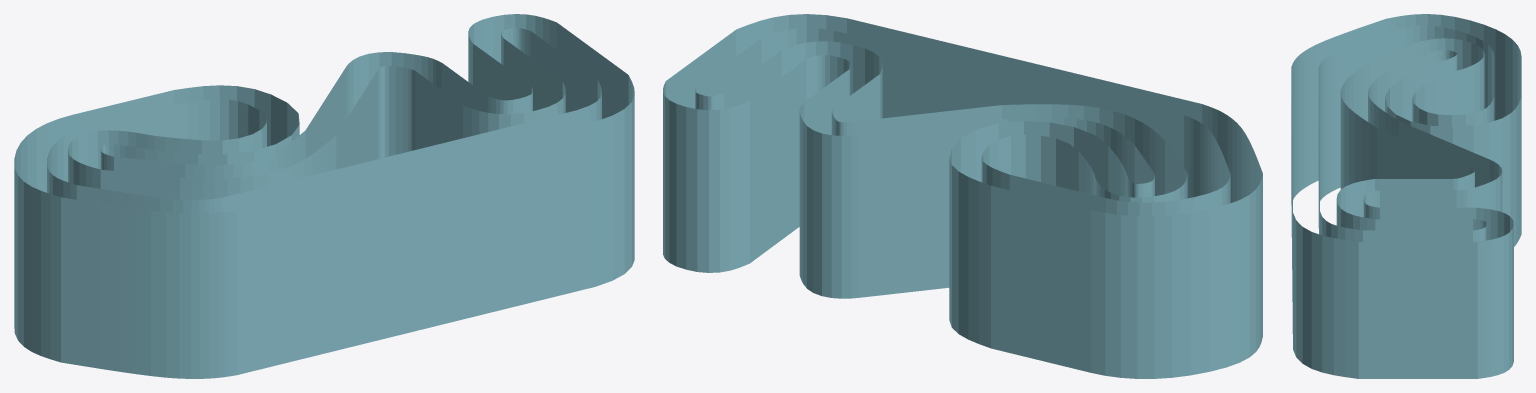
3 views of the same model, side by side, from view 1: azimuth 30°, elevation 25°; view 2: azimuth 150°, elevation 25°; view 3: azimuth 270°, elevation 25° (orthographic). The views are drawn at different scales.
Parts seen in each view (by area): view 1: collision; view 2: collision; view 3: collision.
Part boxes in pixels (left/top/right/bottom): collision: left=14, top=14, right=634, bottom=378; collision: left=663, top=14, right=1262, bottom=378; collision: left=1291, top=14, right=1521, bottom=378.
Size of the model in its own units: 372 by 104 by 159.
